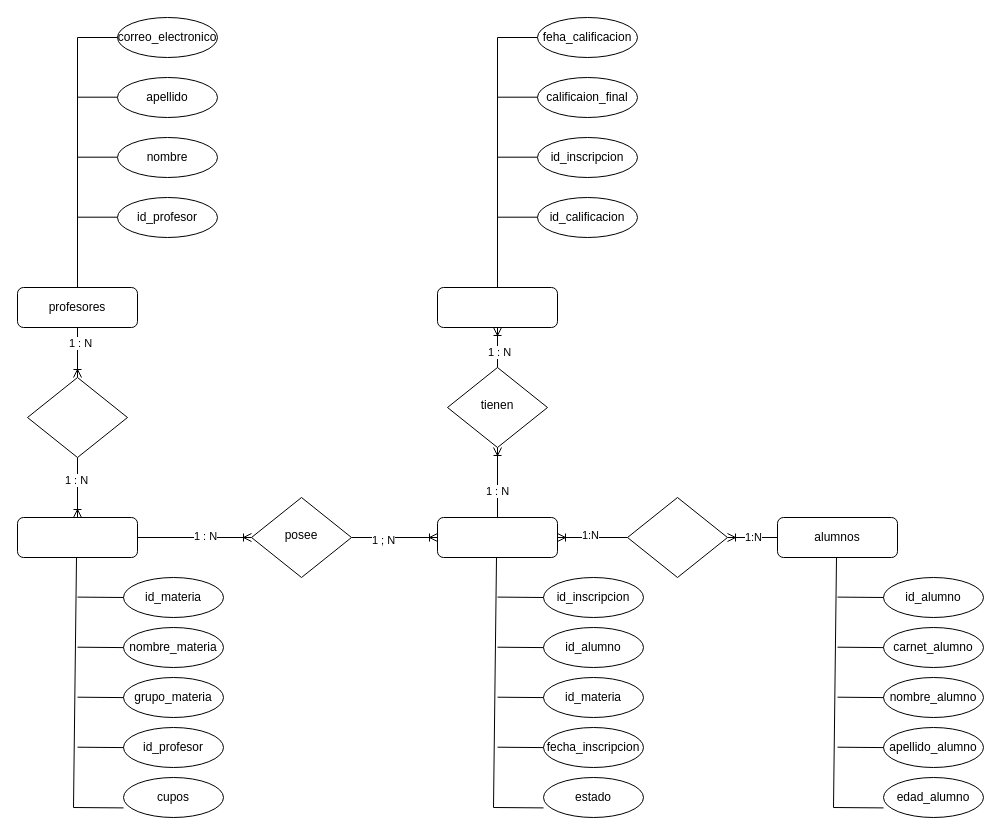
The diagram is 1001 pixels wide and 835 high, and some of its shapes have lost their labels. Each missing label, with the centre of its shape:
calificaciones: (497,307)
imparten: (77,417)
inscripciones: (497,537)
materias: (77,537)
paga: (677,537)
